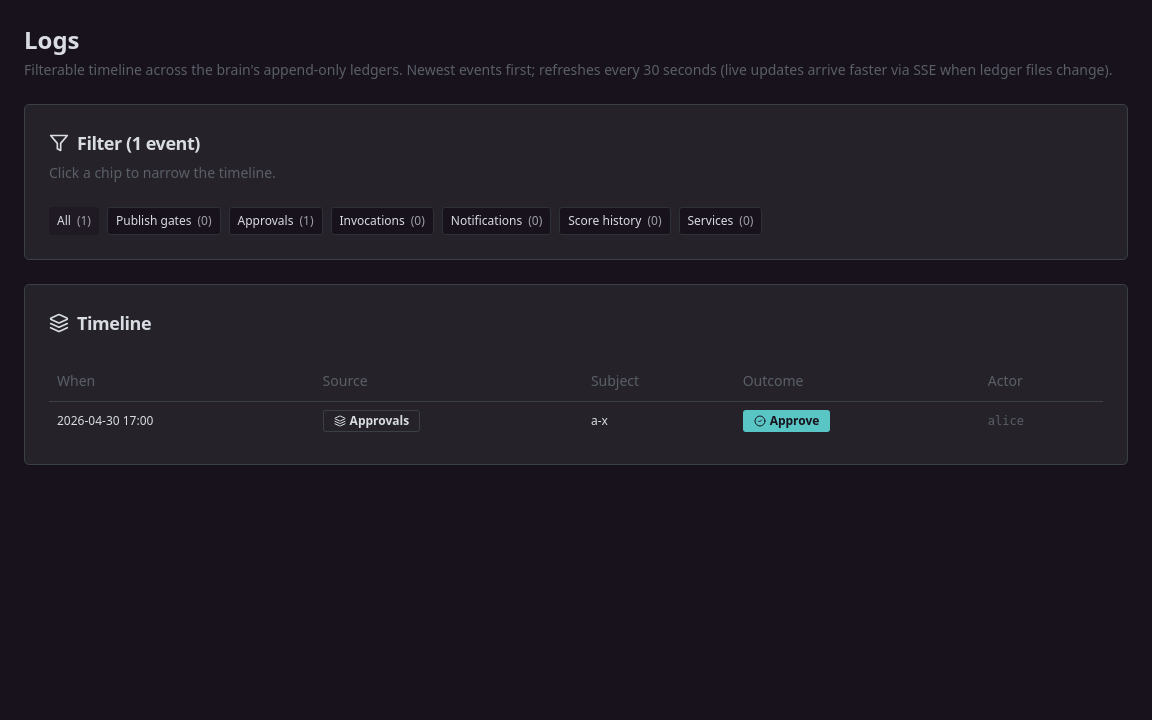
Test: LogsPage › close button dismisses the drill-down modal
The image size is (1152, 720).
Check: the table with test id "logs-timeline" is shown, box [49,361,1103,440]
Click the text "a-x".
click(599, 420)  # box [583,401,735,440]
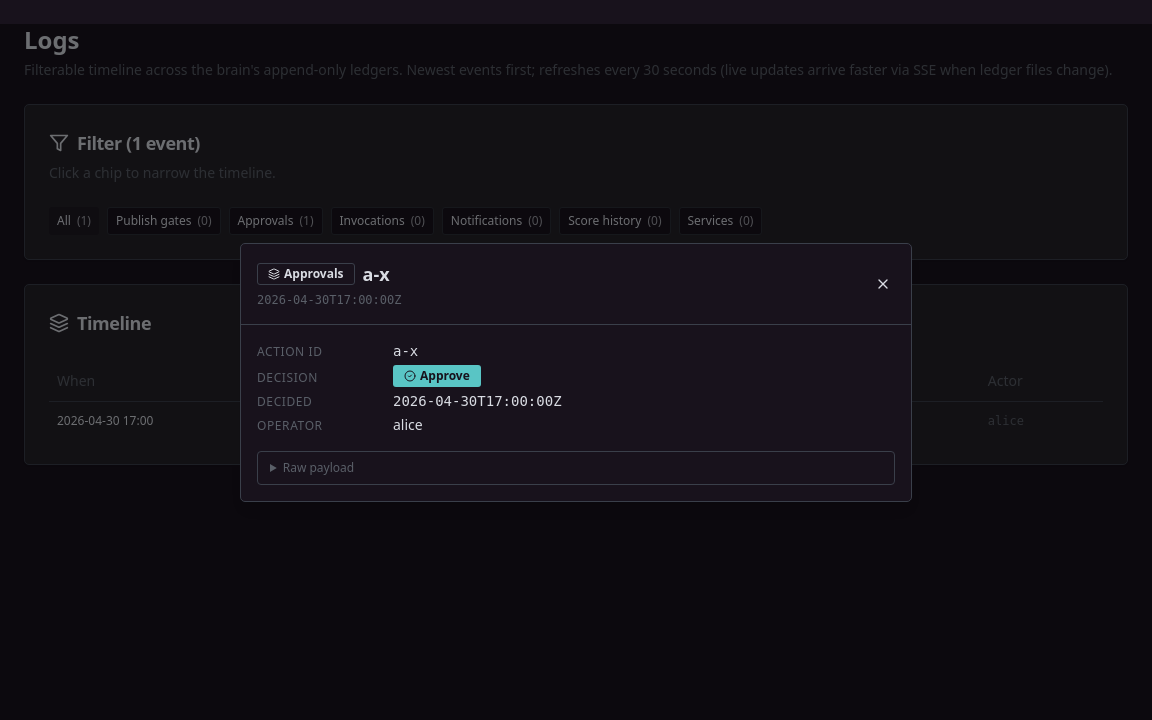
Check: the element with test id "log-detail-backdrop" is shown
Click the button with test id "log-detail-close".
click(883, 284)  # box [871,272,895,296]
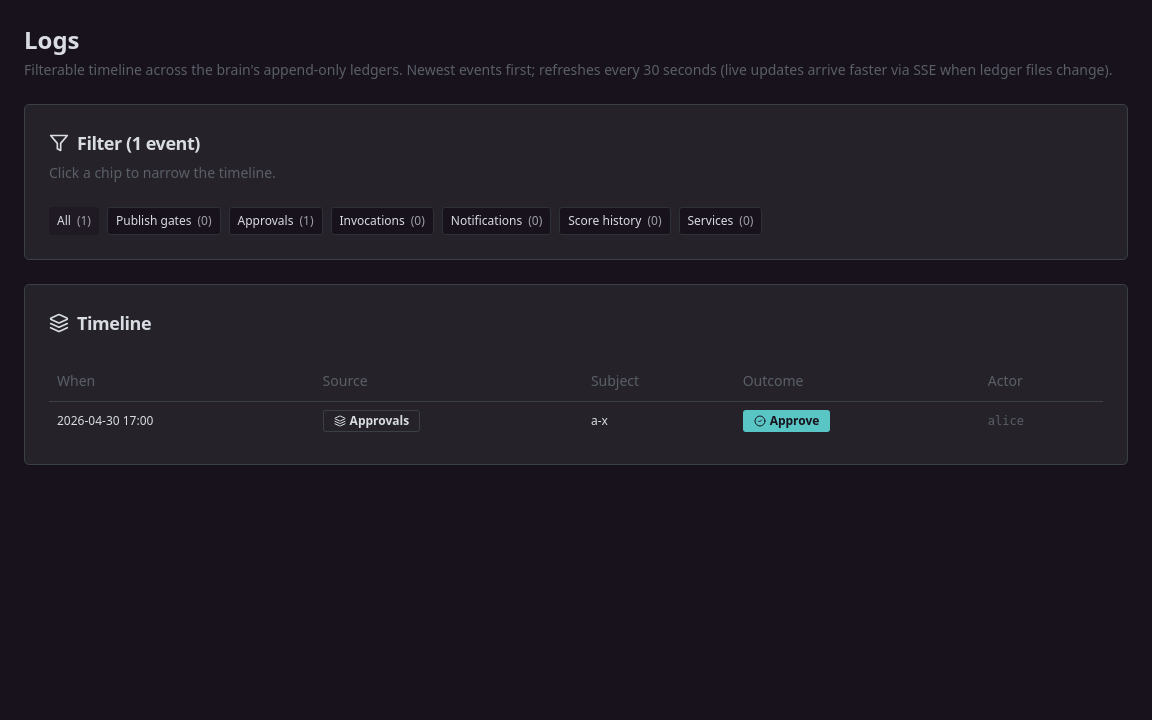
Check: the element with test id "log-detail-backdrop" is gone
